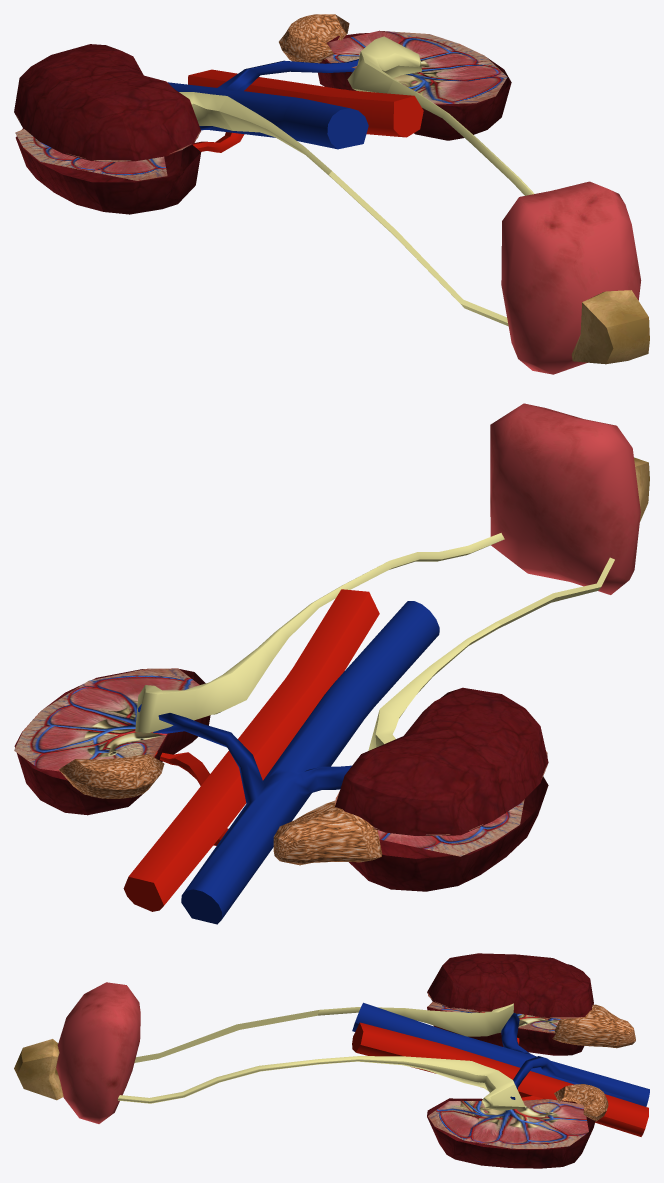
The model's file is kidny.fbx.
3 views of the same model, one above another, from view 1: azimuth 30°, elevation 25°; view 2: azimuth 150°, elevation 25°; view 3: azimuth 270°, elevation 25° (orthographic). The views are drawn at different scales.
Parts seen in each view (by area): view 1: polySurface37; view 2: polySurface37; view 3: polySurface37.
Boxes of the visible parts, x1,y1,x2,y2 form: polySurface37: (14, 14, 649, 374); polySurface37: (14, 403, 649, 924); polySurface37: (14, 953, 649, 1168).
Bounding box in the file's own units: 56.53 × 22.98 × 97.86.
Materials: 7 (6 with a texture image).
